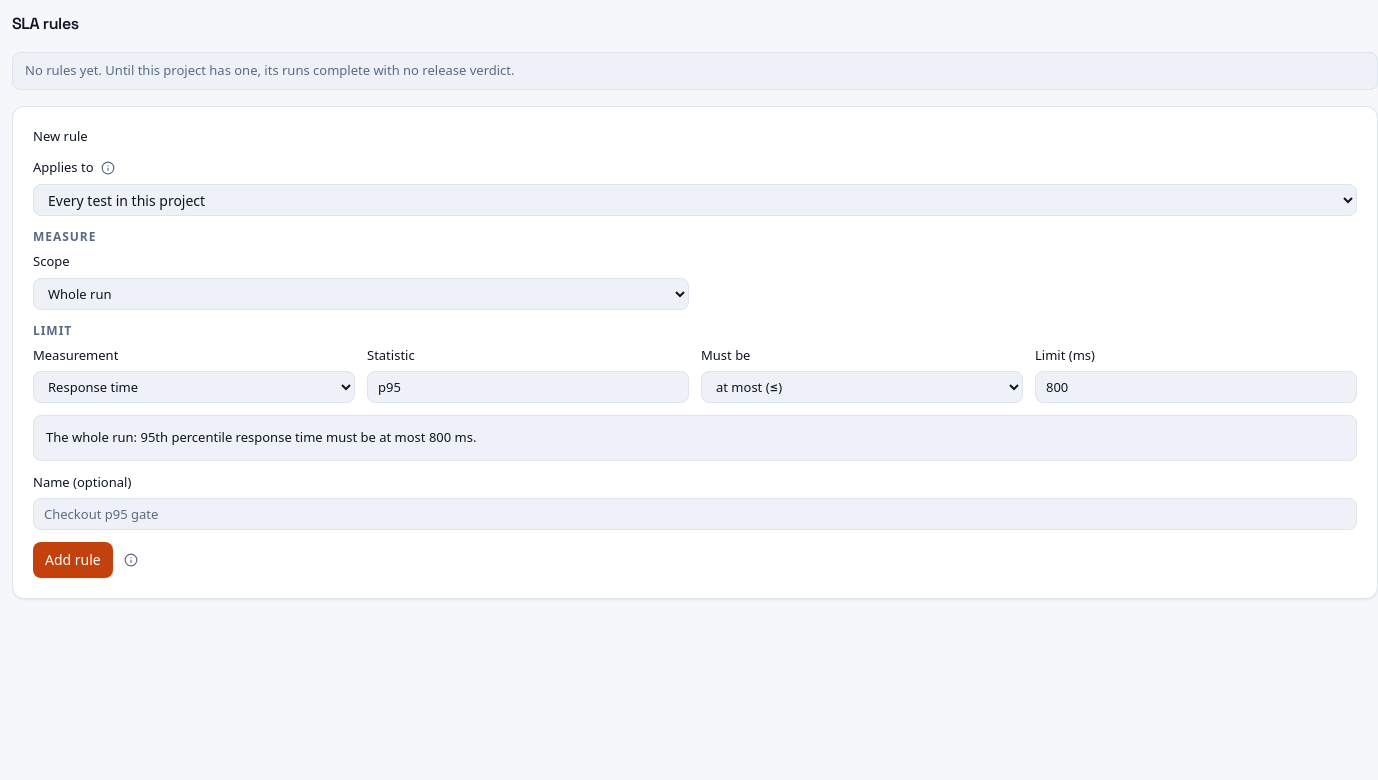
it: ProjectRules — authoring › refuses a request-scoped rule with no target, which would match nothing
Select "Request" in the dropdown labelled "Scope" at (361, 294), box [33,278,689,310]
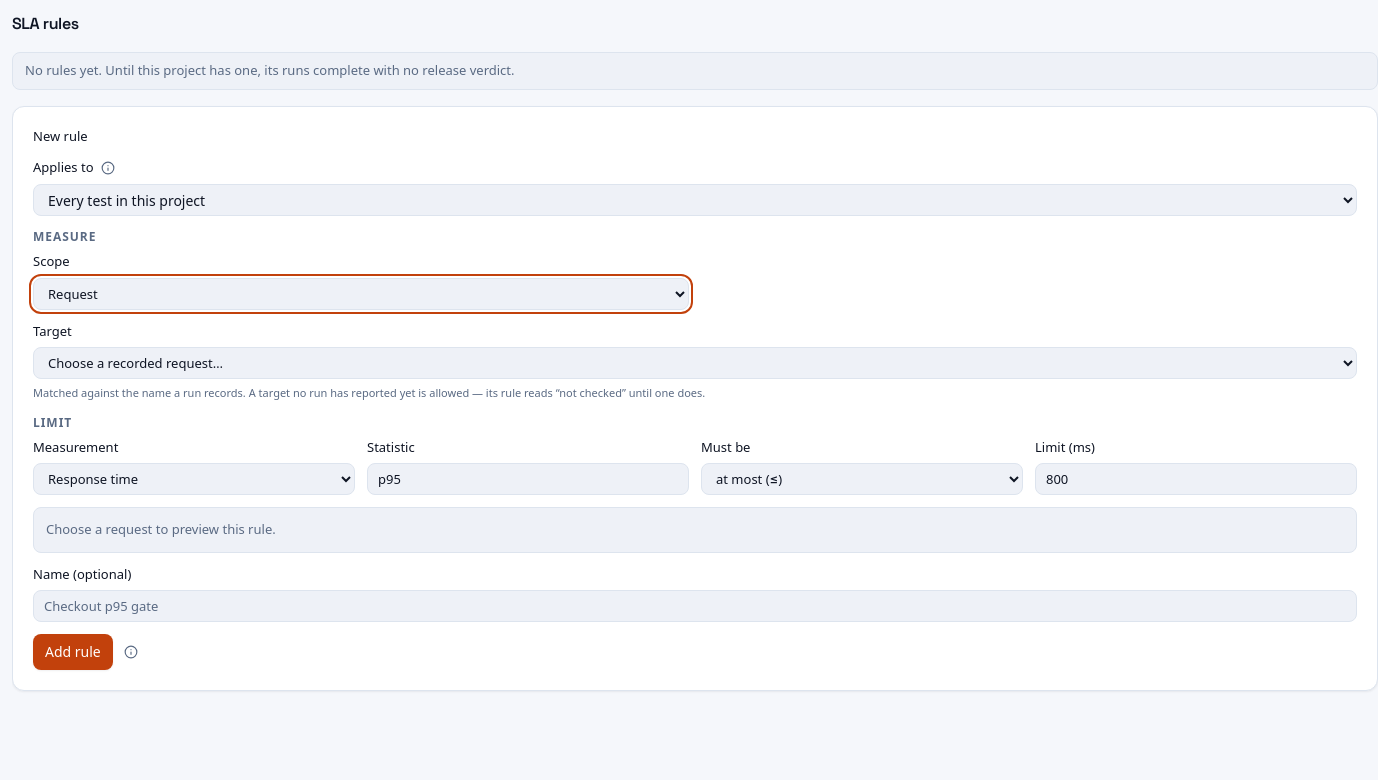
Click the button "Add rule" at (73, 652), box [33,634,113,670]
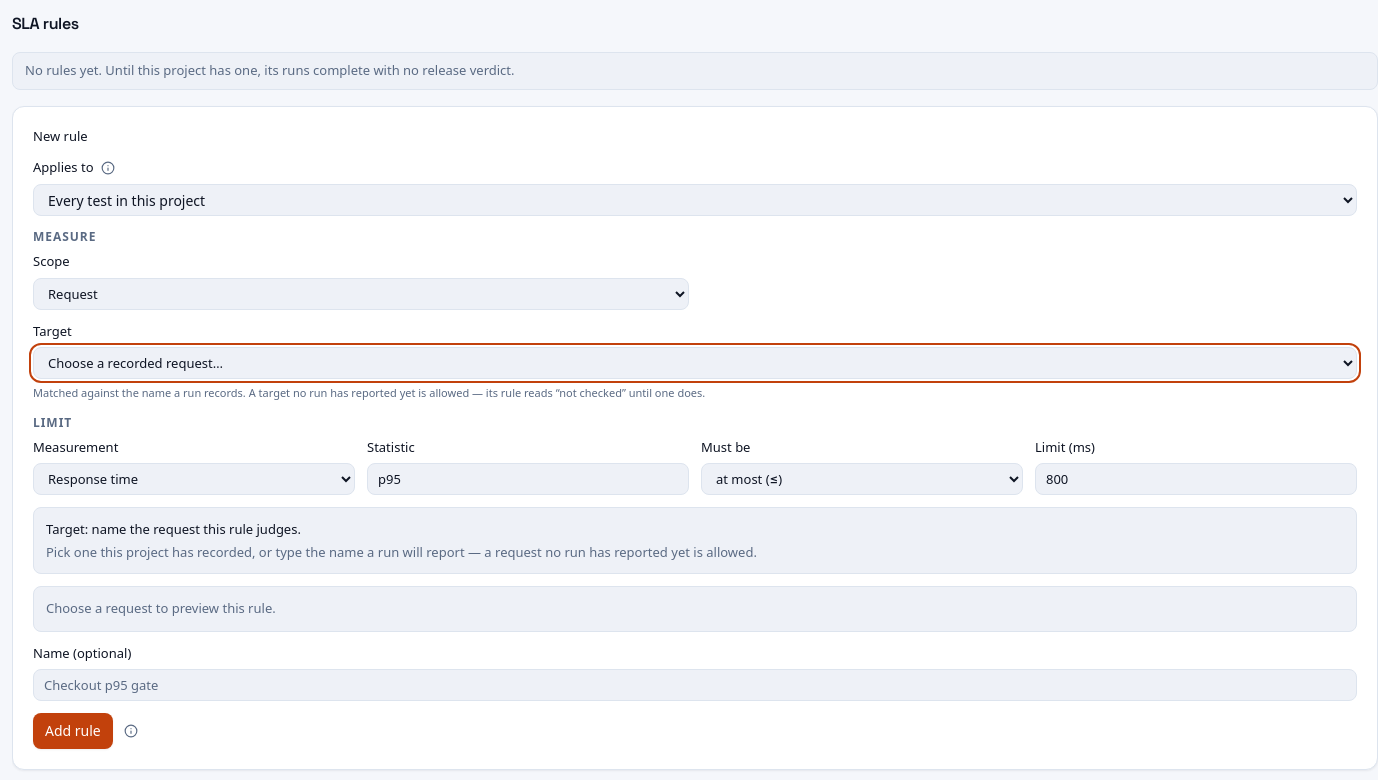
Expected: the message is shown, [33,507,1357,574]
